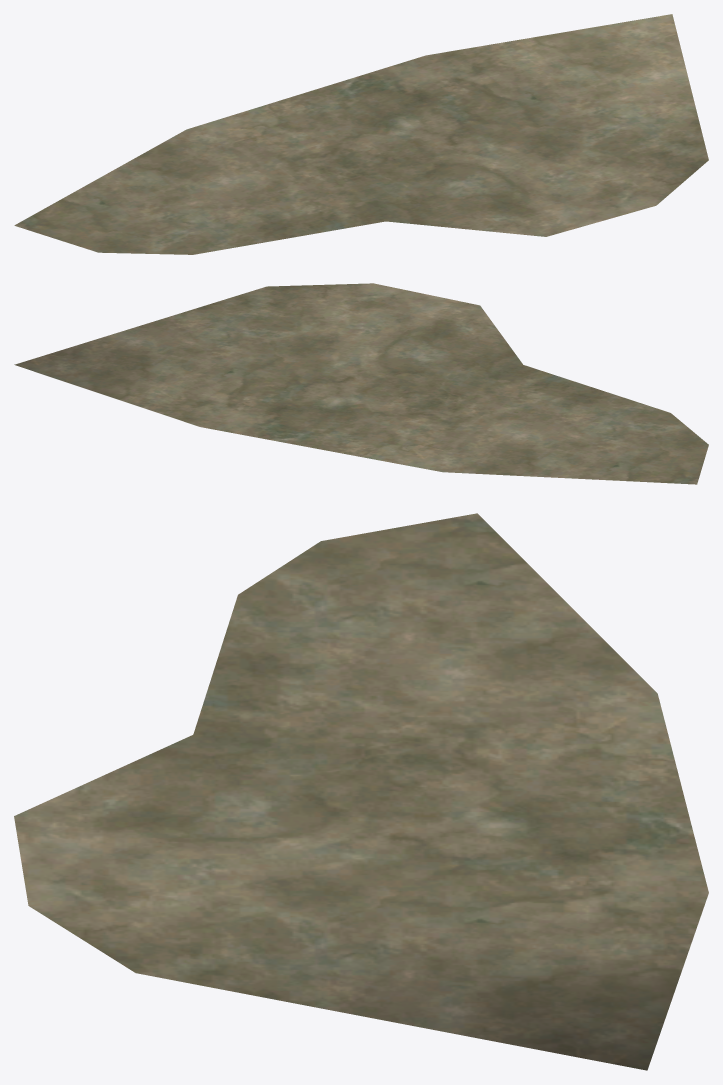
File: OVERHILL_A_01_GROUND_27.fbx
3 renders of one model, top to bottom at view 1: azimuth 30°, elevation 25°; view 2: azimuth 150°, elevation 25°; view 3: azimuth 270°, elevation 25°, orthographic. The views are drawn at different scales.
Visible parts, largest first — view 1: OVERHILL_A_01_GROUND_27; view 2: OVERHILL_A_01_GROUND_27; view 3: OVERHILL_A_01_GROUND_27.
Boxes of the visible parts, x1=… form: OVERHILL_A_01_GROUND_27: x1=14, y1=14, x2=708, y2=254; OVERHILL_A_01_GROUND_27: x1=14, y1=283, x2=708, y2=484; OVERHILL_A_01_GROUND_27: x1=14, y1=513, x2=708, y2=1070.
Bounding box in the file's own units: 32980 × 35.57 × 17418.
1 material, 1 textured.
